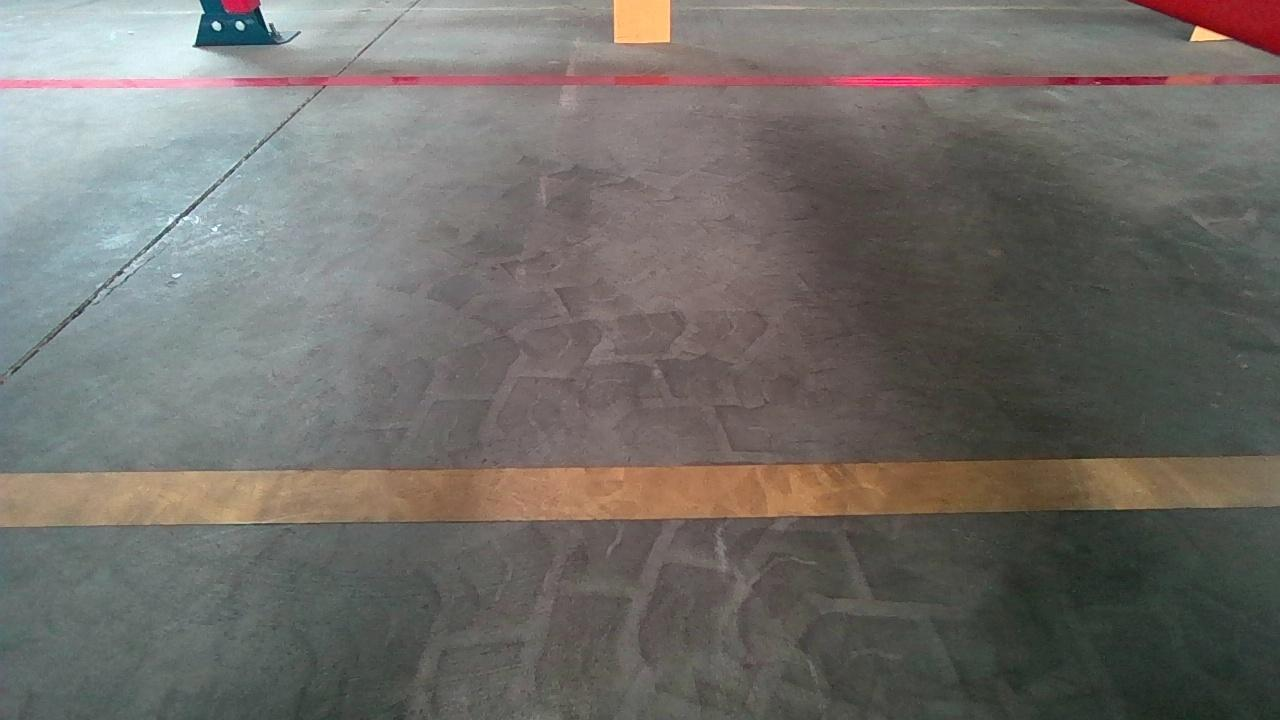orange_strip: (612, 0, 673, 44)
yellow_line: (0, 454, 1273, 529)
